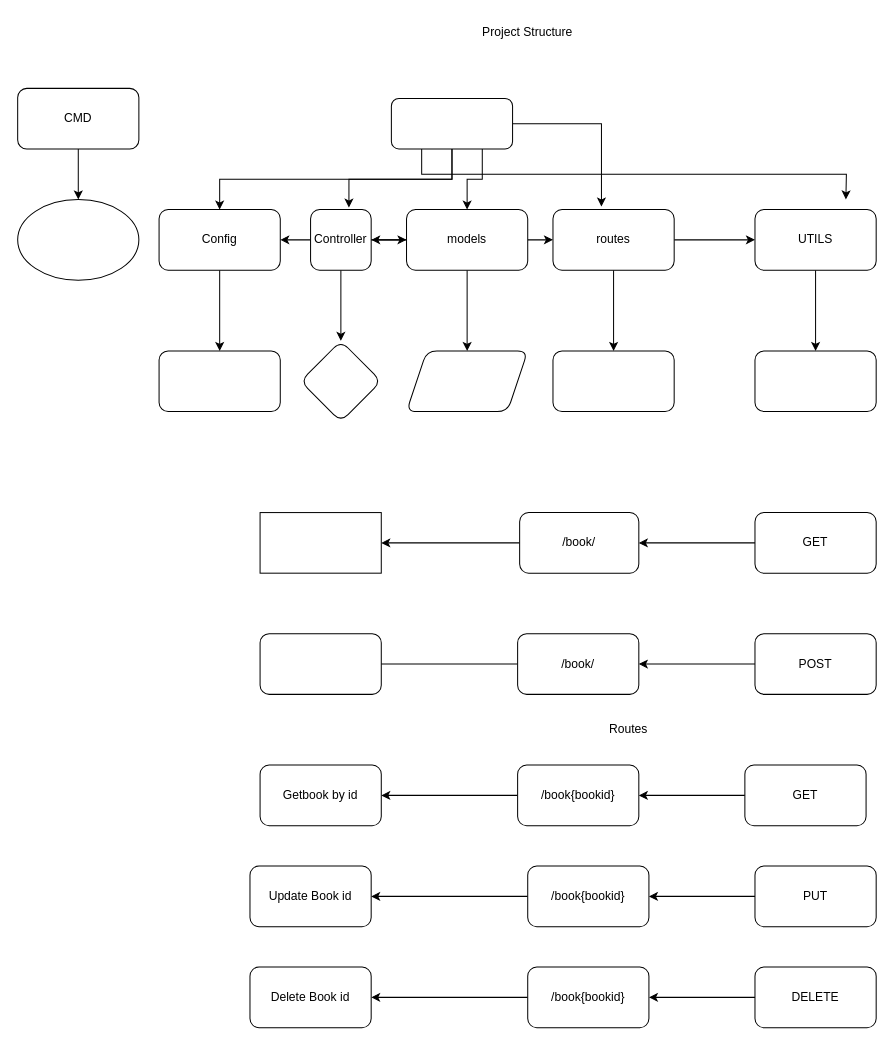
Image size: 894x1045. Some labels were removed from this diagram. The centre of each missing label's shape, as x and y in pixels:
"app.go" belongs at [219,381].
"book controller" belongs at [340,381].
"Book.go" belongs at [467,381].
"Bookstore Routes" belongs at [613,381].
"createbooks" belongs at [320,663].
"Getbooks" belongs at [320,542].
"Main.go" belongs at [78,239].
"PKG" belongs at [451,123].
"utils.go" belongs at [815,381].
